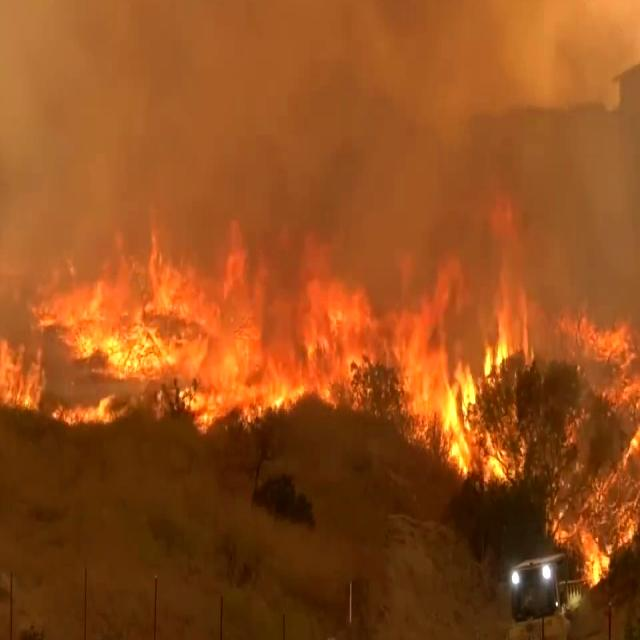fire: (229, 205, 495, 467), (55, 193, 284, 453), (546, 294, 640, 562), (0, 324, 125, 451)
smoke: (8, 0, 460, 97)
